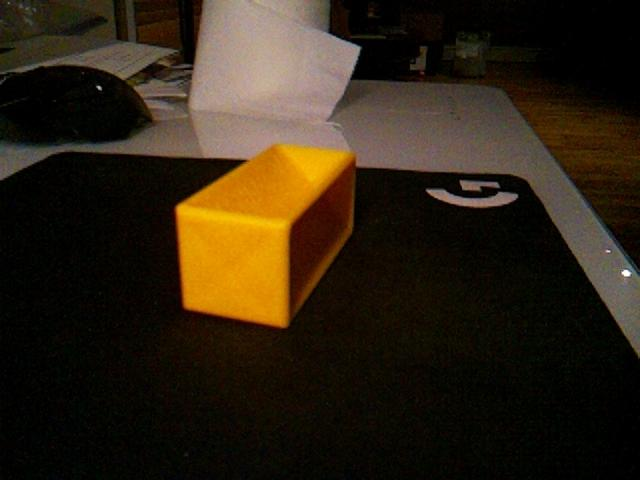yellow: (173, 142, 358, 330)
